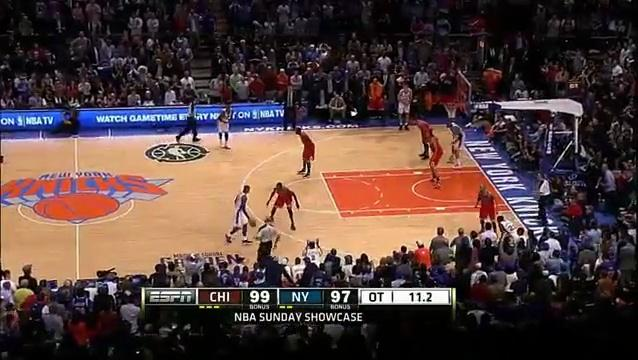Backboard: (458, 69, 476, 121)
Ball: (250, 221, 257, 227)
Basket: (445, 102, 463, 120)
Person: (224, 183, 255, 245), (267, 182, 300, 232), (473, 184, 498, 233), (294, 125, 316, 179), (415, 115, 438, 160), (427, 130, 444, 187), (448, 124, 468, 169), (396, 83, 413, 135), (214, 104, 232, 153), (495, 214, 518, 238)
Referee: (175, 95, 203, 144), (255, 217, 280, 260), (534, 171, 553, 226)
Shot Clock: (567, 80, 581, 95), (476, 39, 486, 57)
